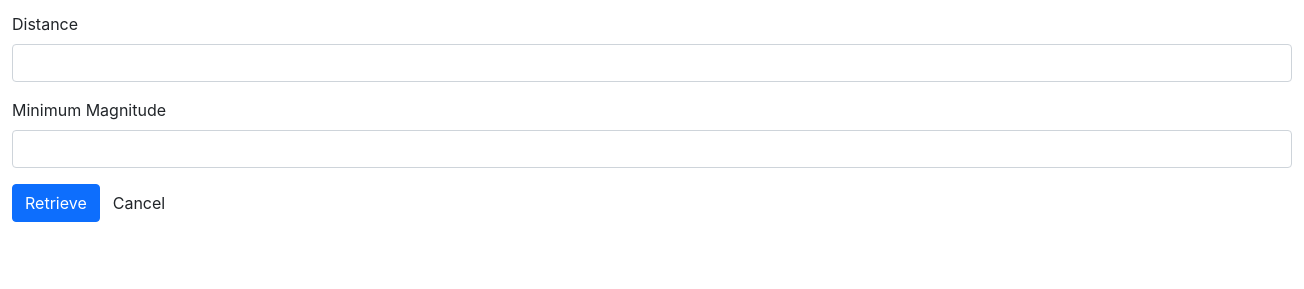
EarthquakeForm tests › Correct Error messsages on missing input
Click the button with test id "EarthquakeForm-submit". click: (56, 203)
box: [12,184,100,222]
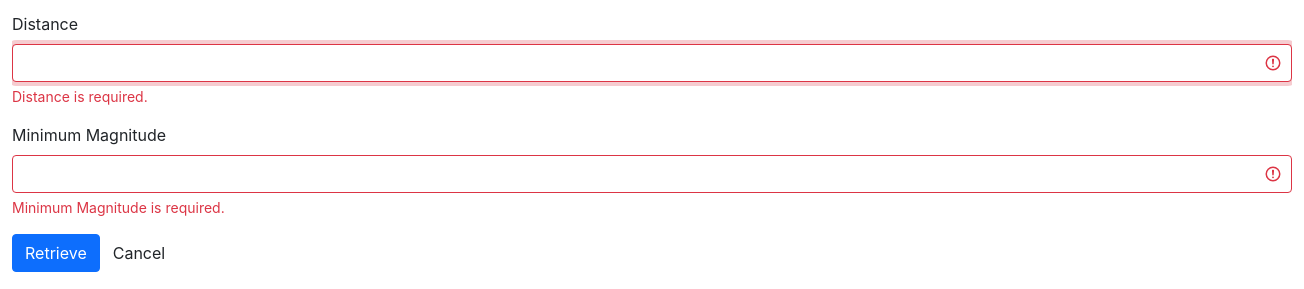
expect the text "Distance is required." is shown: met, box [12,88,148,105]
expect the text "Minimum Magnitude is required." is shown: met, box [12,199,225,216]
